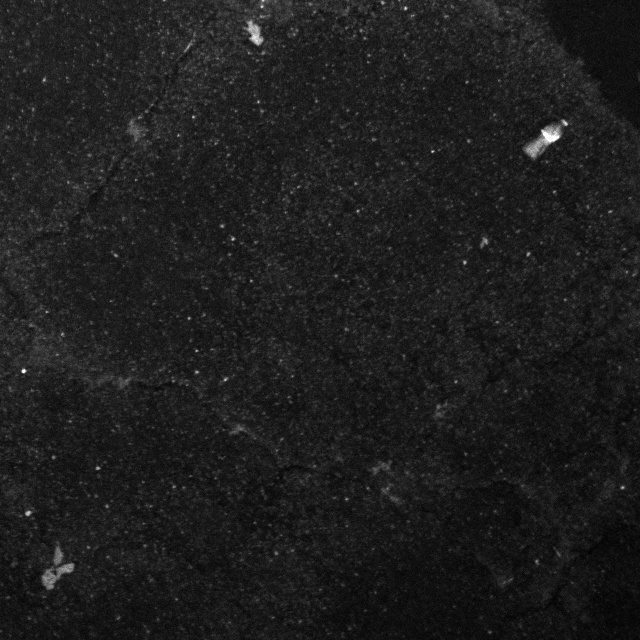bottle: (521, 112, 571, 161)
